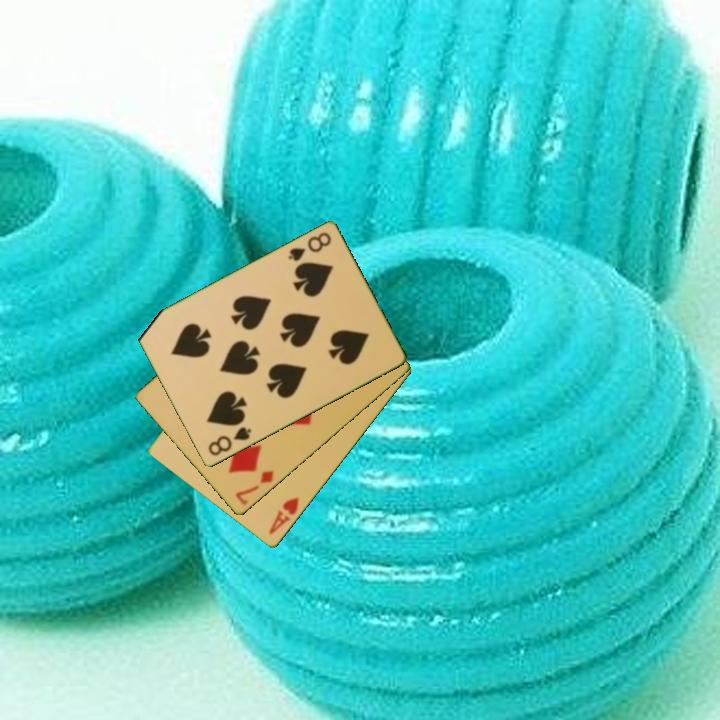7d: (232, 467, 277, 508)
8s: (284, 229, 334, 265), (204, 424, 254, 459)
Ah: (265, 493, 302, 537)
